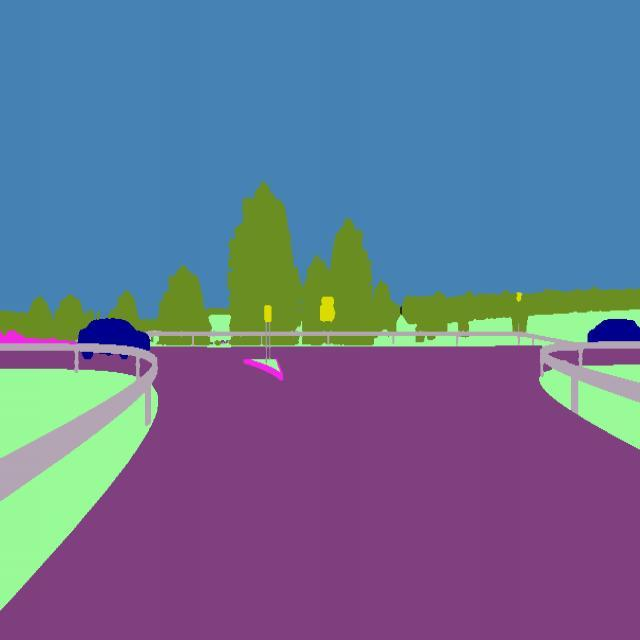safe: (76, 314, 152, 362), (586, 310, 640, 350)
